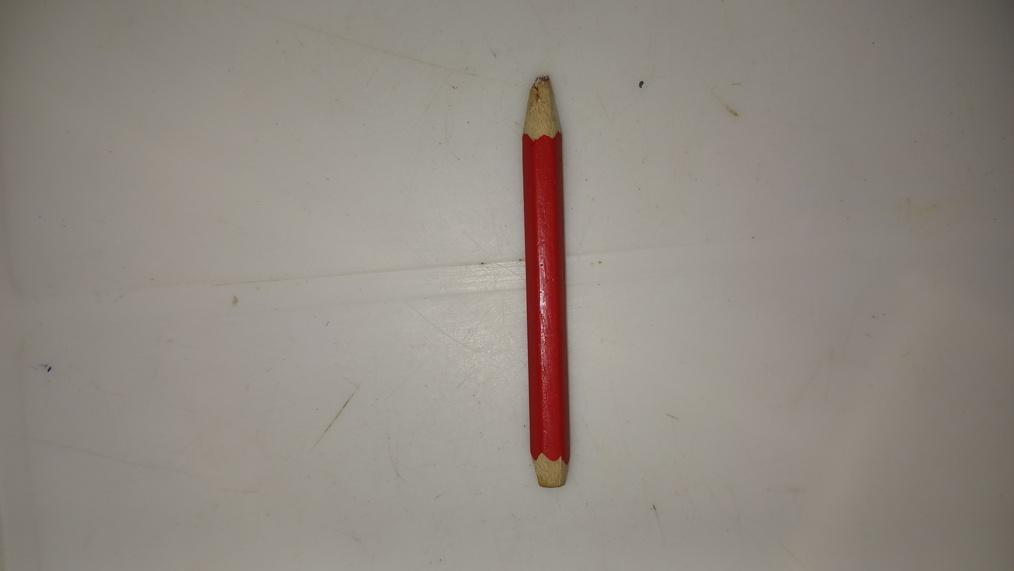Pencil: (527, 76, 570, 486)
